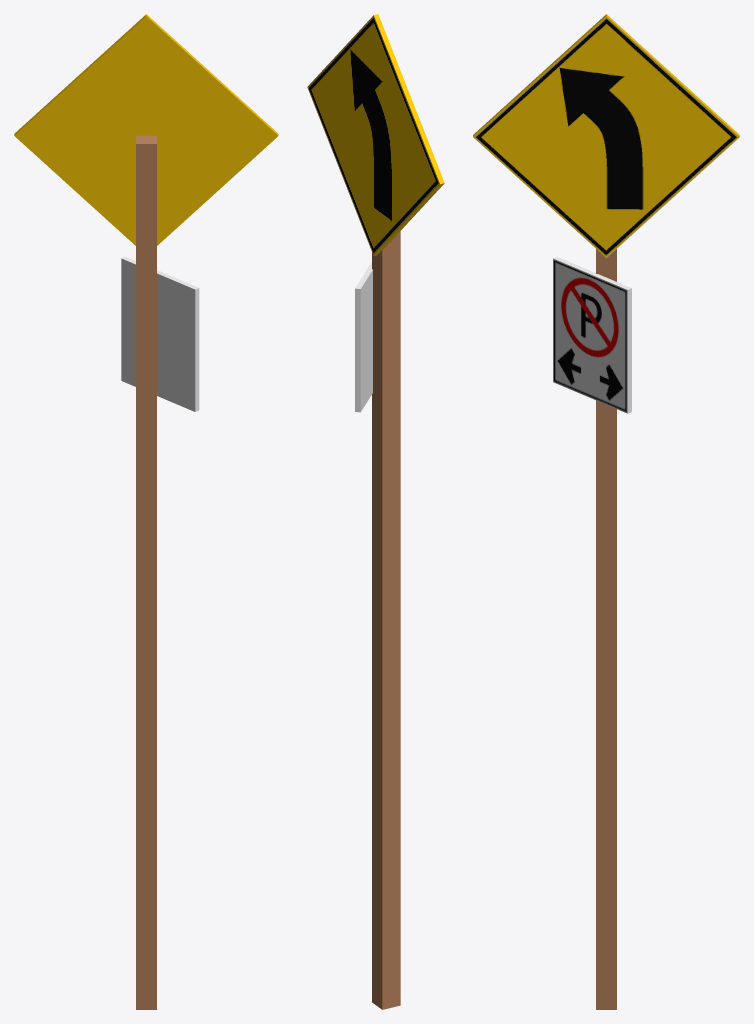
Rendered from sign4.fbx.
3 views of the same model, side by side, from view 1: azimuth 90°, elevation 25°; view 2: azimuth 210°, elevation 25°; view 3: azimuth 270°, elevation 25° (orthographic).
Parts seen in each view (by area): view 1: Cylinder.004_Cylinder.000; view 2: Cylinder.004_Cylinder.000; view 3: Cylinder.004_Cylinder.000.
Boxes of the visible parts, <box> form: Cylinder.004_Cylinder.000: <box>14,14,278,1009</box>; Cylinder.004_Cylinder.000: <box>307,14,444,1009</box>; Cylinder.004_Cylinder.000: <box>473,14,739,1009</box>.
Bounding box in the file's own units: 28.39 × 395 × 96.12.
